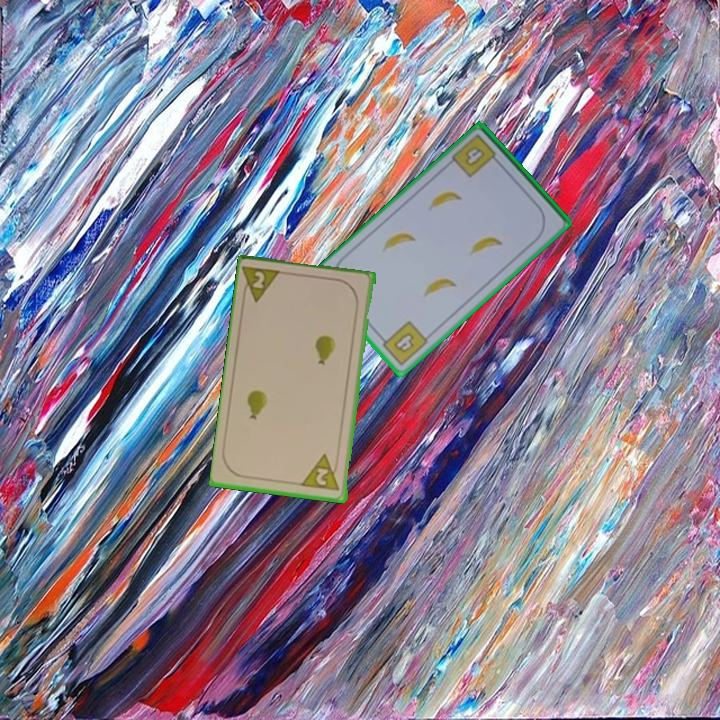2p: (239, 263, 286, 306), (300, 451, 343, 494)
4b: (375, 317, 431, 369), (448, 131, 503, 181)
